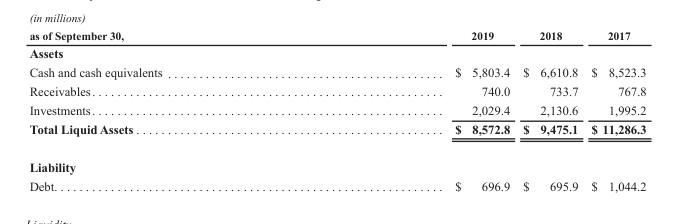table: (28, 28, 645, 192)
table column: (28, 28, 307, 192), (307, 28, 515, 192), (515, 28, 583, 192), (583, 28, 645, 192)
table column header: (28, 28, 645, 43)
table projected row header: (28, 147, 645, 176), (28, 43, 645, 62)
table row: (28, 147, 645, 176), (28, 119, 645, 147), (28, 43, 645, 62), (28, 62, 645, 81), (28, 81, 645, 100), (28, 100, 645, 119), (28, 176, 645, 192), (28, 28, 645, 43)
